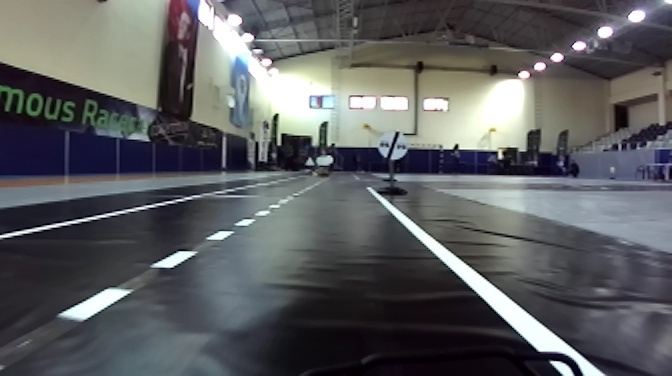sollama_serbest: (373, 130, 409, 161)
